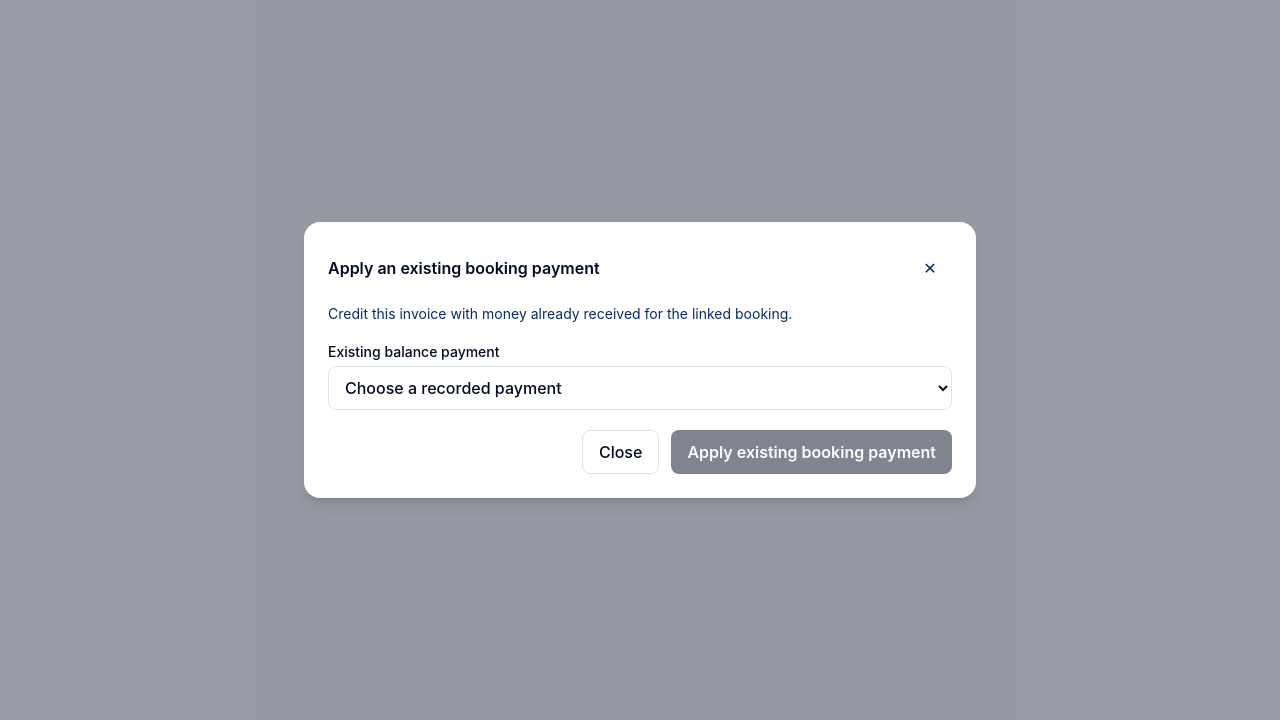
Test: apply an existing booking payment › requires both checks, shows the original deposit reference and reports the saved receipt
Later steps or results of the test are not shown.
Select "£120.00 · 2026-11-04 · Recorded balance" in the dropdown labelled "Existing balance payment" at x=640, y=388, box 328,366 -> 952,410
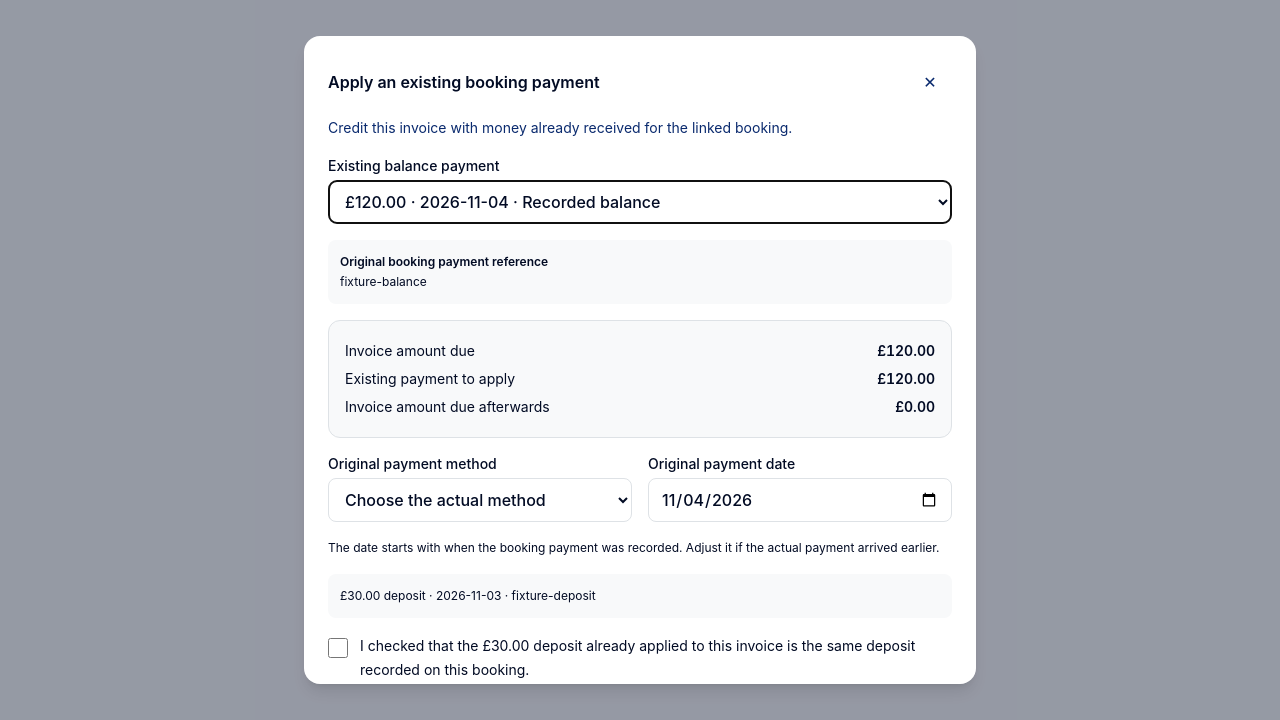
Select "Bank transfer" in the dropdown labelled "Original payment method" at x=480, y=500, box 328,478 -> 632,522
(page scrolled)
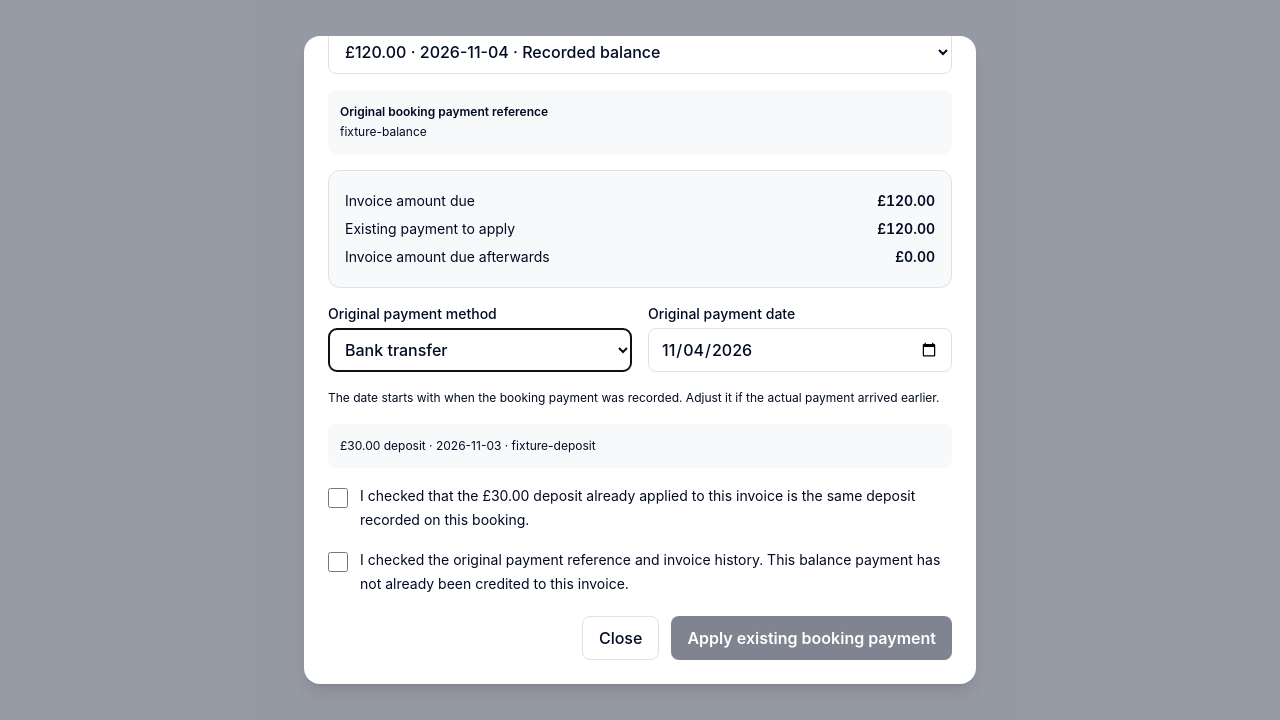
Click the checkbox labelled "original payment reference and invoice history" at x=338, y=562, box 328,552 -> 348,572
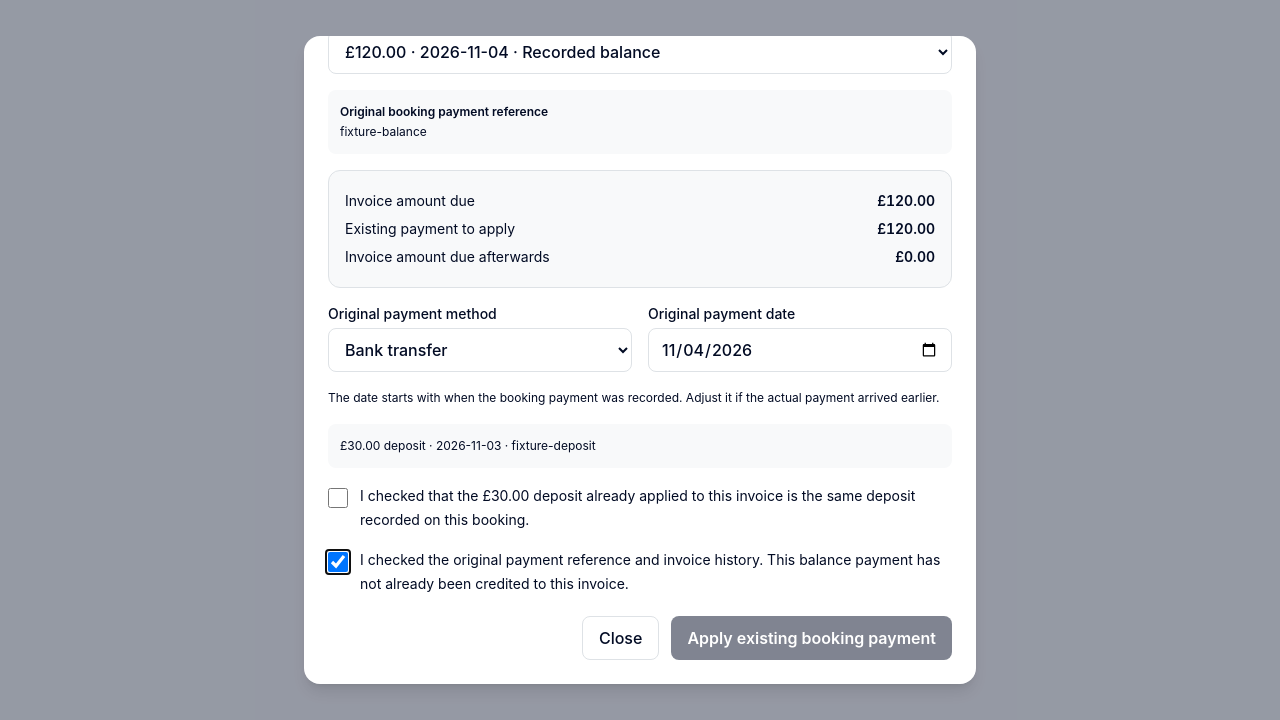
Check: the list item "£30.00 deposit · 2026-11-03 · fixture-deposit" is shown, box 340,438 -> 596,453
Check: the button "Apply existing booking payment" is disabled, box 671,616 -> 952,660
Click the checkbox labelled "deposit already applied" at x=338, y=498, box 328,488 -> 348,508
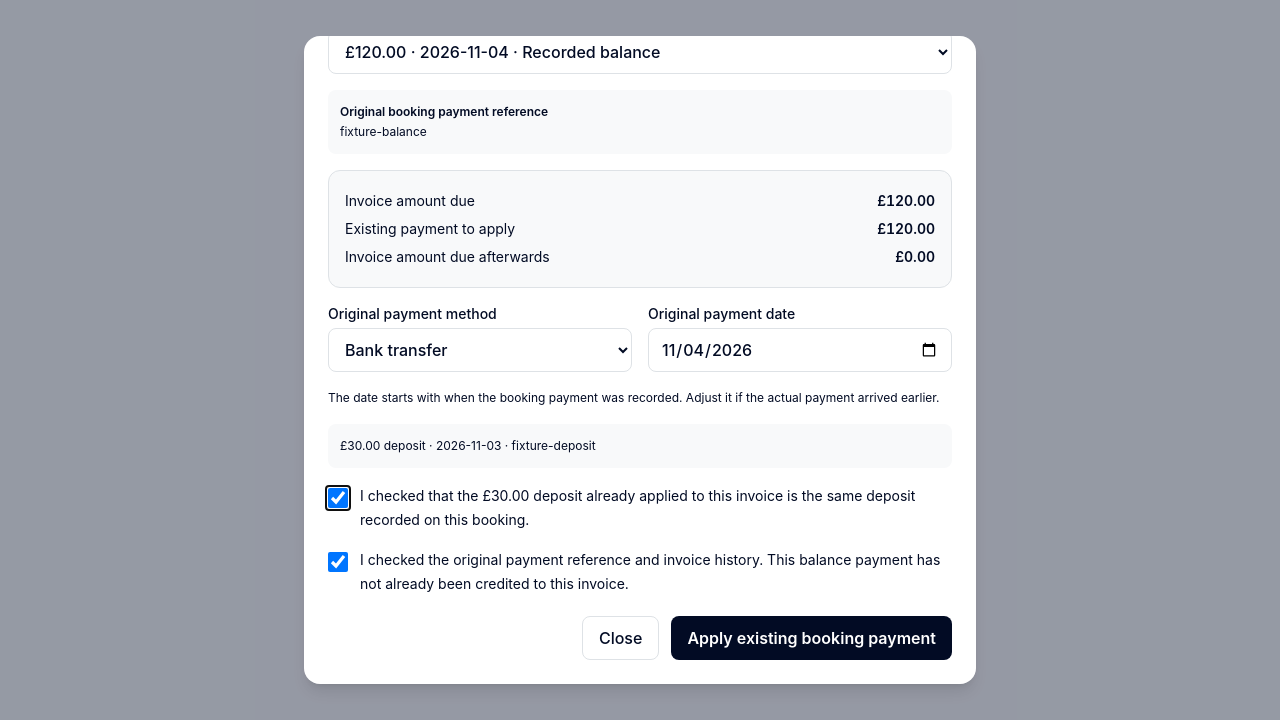
Check: the button "Apply existing booking payment" is enabled, box 671,616 -> 952,660
